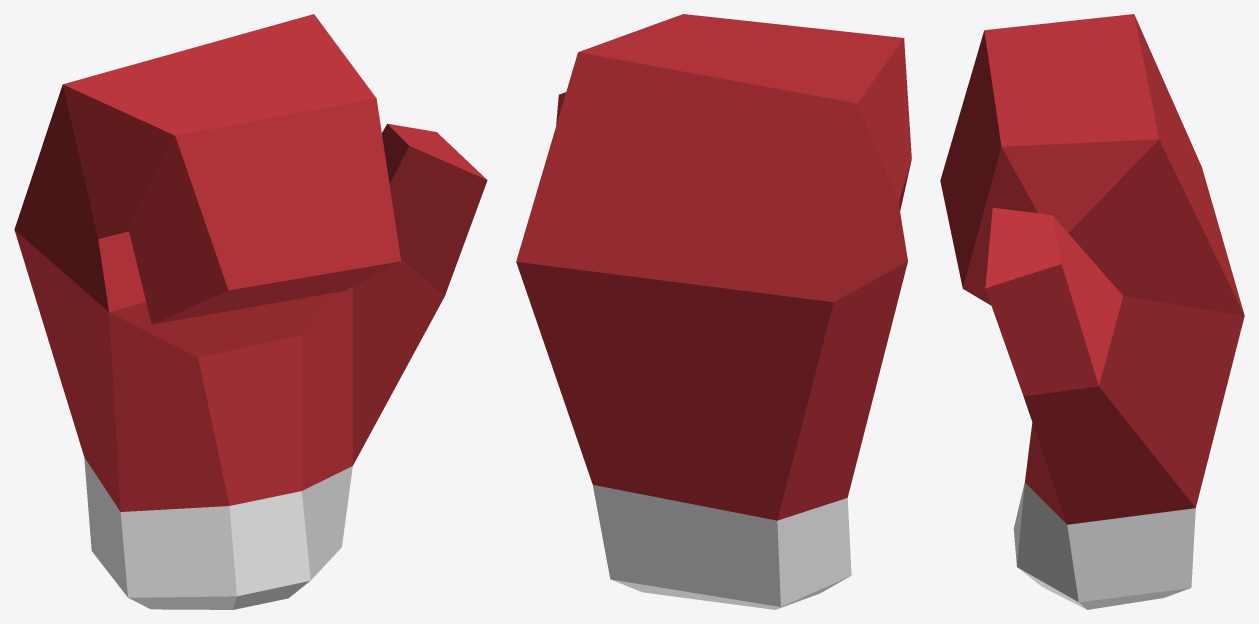
Rendered from box-glove.glb.
The picture shows the model from 3 angles, left to right: view 1: azimuth 30°, elevation 25°; view 2: azimuth 150°, elevation 25°; view 3: azimuth 270°, elevation 25°; orthographic projection. The views are drawn at different scales.
Parts seen in each view (by area): view 1: box-glove; view 2: box-glove; view 3: box-glove.
Part boxes in pixels (x1=…): box-glove: x1=14, y1=14, x2=487, y2=609; box-glove: x1=516, y1=14, x2=911, y2=609; box-glove: x1=940, y1=14, x2=1244, y2=609.
Size of the model in its own units: 0.1946 by 0.272 by 0.152.
Materials: 1 (1 with a texture image).
